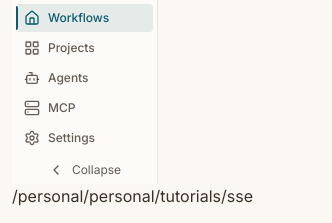
Test: AppNavBar settings navigation › leaves a tutorial lesson route from the Projects section
What coordinates should you click on to do the following:
click the button "Projects"
I would click on:
 (84, 48)
Its box is [16,34,153,62].
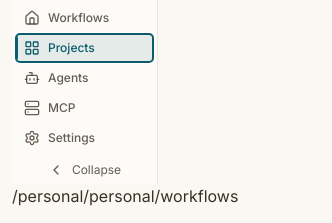
Expected: the text with test id "location-probe" reads "/personal/personal/workflows", [12,186,238,206]
